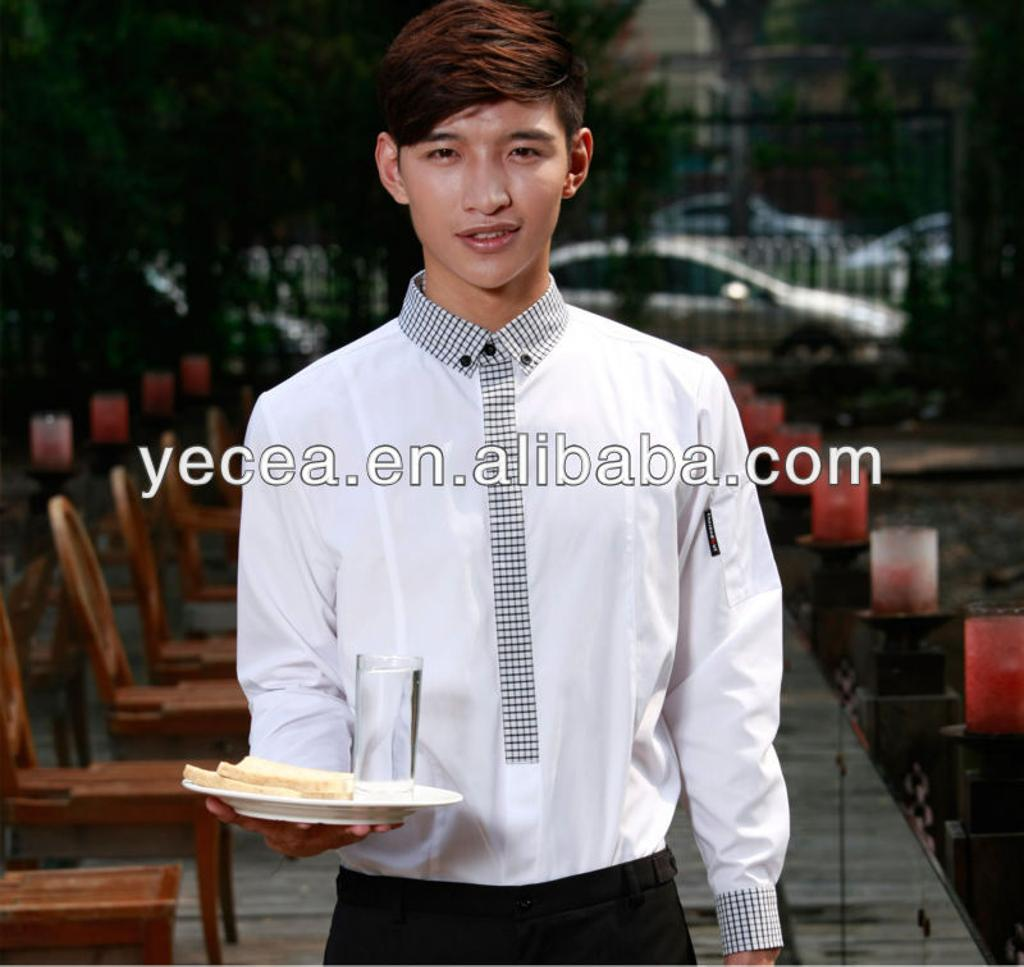face: (404, 60, 568, 288)
